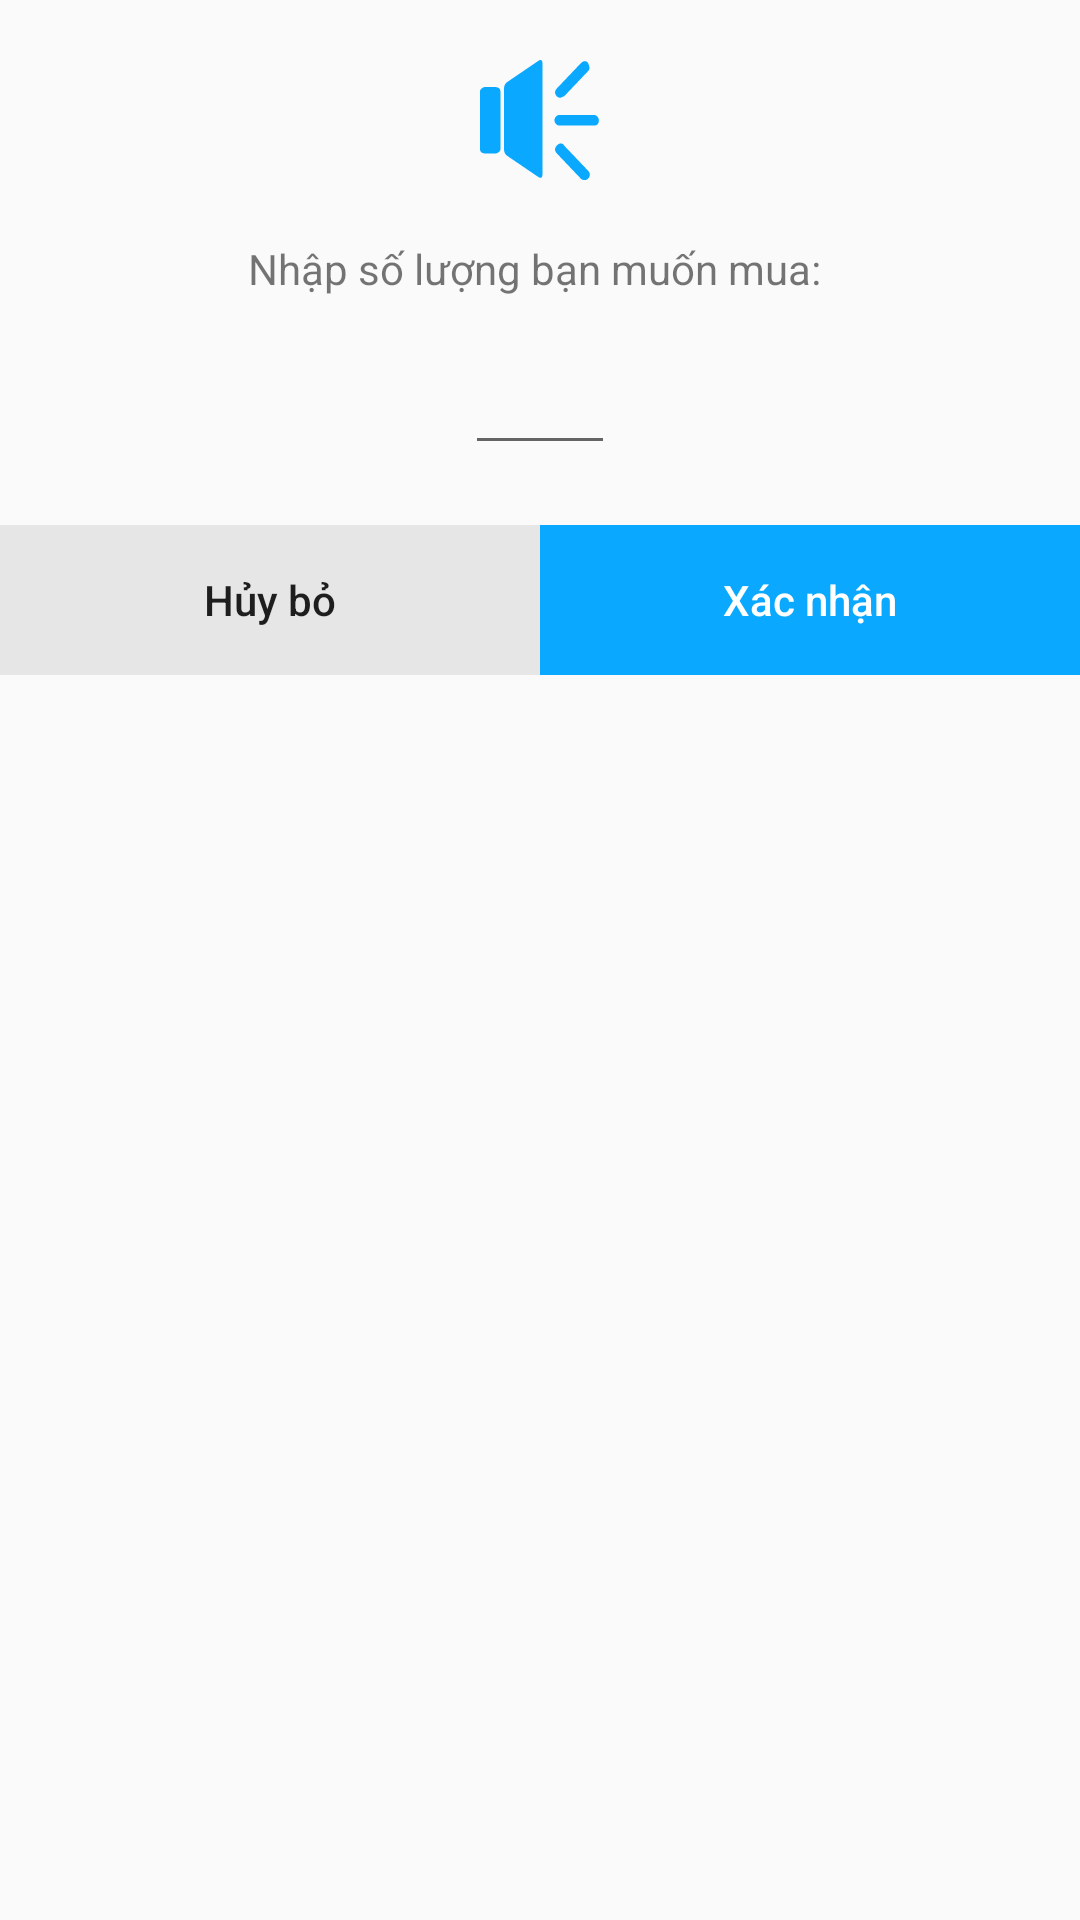

Where to tap for icons on this 1080*1920 app screen, as (x=x, y=y):
specker: (x=539, y=120)
